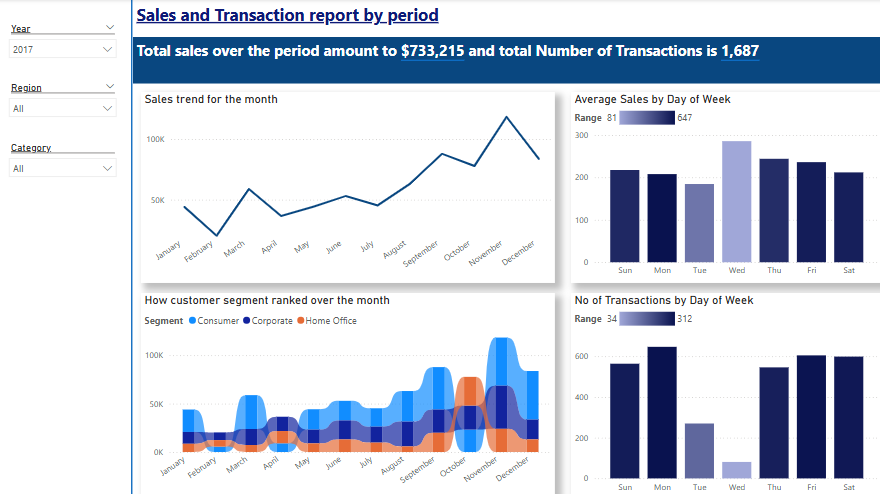

The dashboard page shown, as its layout file describes it:
{"tool":"powerbi","page":{"name":"Periodic Report","canvas":[1280,720],"ordinal":1},"visuals":[{"type":"shape","box":[186.5,0,25.2,720.6],"z":0},{"type":"textbox","box":[199.9,0,453.5,43.7],"z":1000},{"type":"textbox","box":[199.9,55.4,1080.1,67.2],"z":2000},{"type":"lineChart","title":"Sales trend for the month","fields":{"Category":["Orders.Order Date.Variation.Date Hierarchy.Month"],"Y":["Sum(Orders.Sales)"]},"box":[211.7,134.4,596.3,275.5],"z":3000},{"type":"ribbonChart","title":"How customer segment ranked over the month","fields":{"Category":["Orders.Order Date.Variation.Date Hierarchy.Month"],"Y":["Sum(Orders.Sales)"],"Series":["Orders.Segment"]},"box":[211.7,423.3,596.3,297.3],"z":4000},{"type":"columnChart","title":"Average Sales by Day of Week","fields":{"Category":["Orders.Day Name"],"Y":["Avg(Orders.Sales)"]},"box":[831.5,134.4,448.5,275.5],"z":5000},{"type":"columnChart","title":"No of Transactions by Day of Week","fields":{"Category":["Orders.Day Name"],"Y":["CountNonNull(Orders.Order ID)"]},"box":[831.5,423.3,448.5,297.3],"z":6000},{"type":"slicer","fields":{"Values":["Orders.Order Date.Variation.Date Hierarchy.Year"]},"box":[11.8,28.6,174.7,77.3],"z":7000},{"type":"slicer","fields":{"Values":["Orders.Region"]},"box":[11.8,114.2,174.7,77.3],"z":8000},{"type":"slicer","fields":{"Values":["Orders.Category"]},"box":[11.8,199.9,174.7,77.3],"z":9000}]}

Visuals, with their boxes in screenshot pixels (x1, y1, x2, y2), scaled from the page's 1280x720 canvas onto the 880x494 screenshot:
shape: bbox=[128, 0, 146, 493]
textbox: bbox=[137, 0, 449, 30]
textbox: bbox=[137, 38, 879, 84]
"Sales trend for the month" lineChart: bbox=[146, 92, 556, 281]
"How customer segment ranked over the month" ribbonChart: bbox=[146, 290, 556, 493]
"Average Sales by Day of Week" columnChart: bbox=[572, 92, 879, 281]
"No of Transactions by Day of Week" columnChart: bbox=[572, 290, 879, 493]
slicer - Orders.Order Date.Variation.Date Hierarchy.Year: bbox=[8, 20, 128, 73]
slicer - Orders.Region: bbox=[8, 78, 128, 131]
slicer - Orders.Category: bbox=[8, 137, 128, 190]
